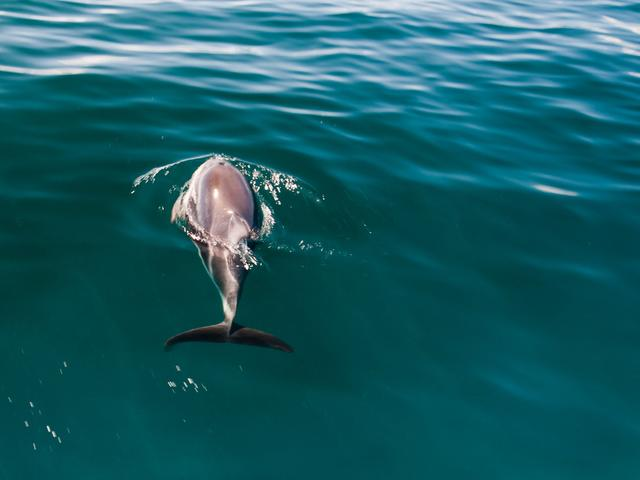dolphin: (142, 126, 314, 373)
